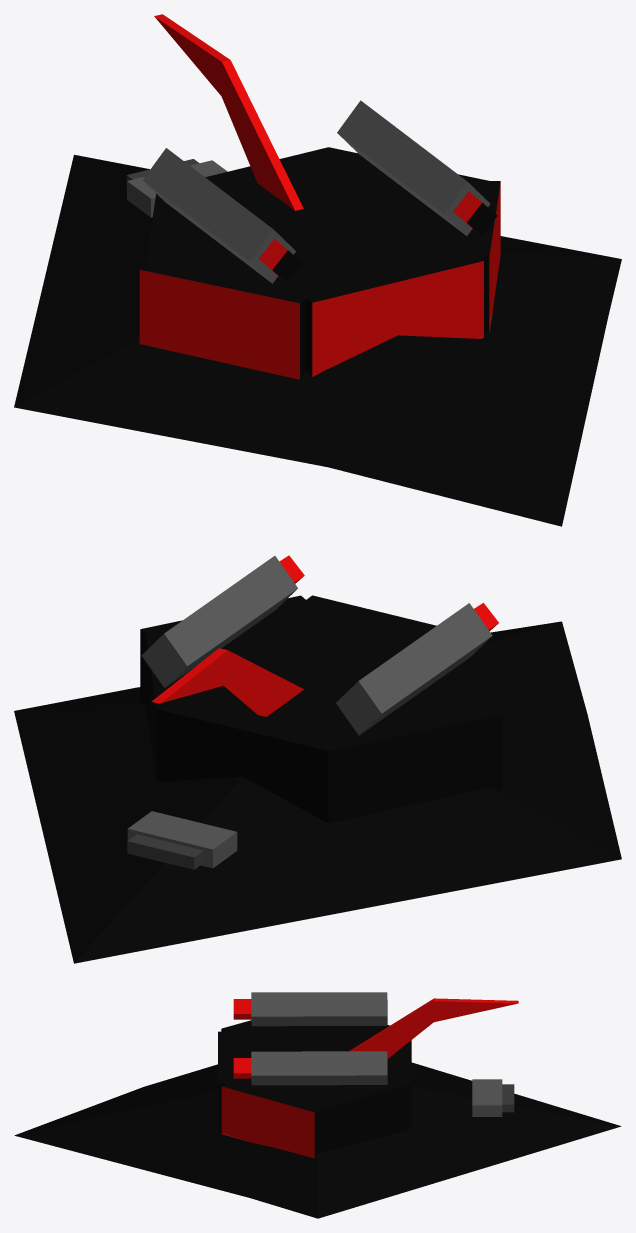
File: FBX Finished Enemy Lazarous Ship.fbx
3 views of the same model, one above another, from view 1: azimuth 30°, elevation 25°; view 2: azimuth 150°, elevation 25°; view 3: azimuth 270°, elevation 25° (orthographic). The views are drawn at different scales.
Parts seen in each view (by area): view 1: pPyramid1, pCylinder1, pCylinder3, pasted__pCylinder3, pCube4, pCube2; view 2: pPyramid1, pCylinder1, pCylinder3, pasted__pCylinder3, pCube4, pCube2, pasted__pCube2; view 3: pPyramid1, pCylinder1, pasted__pCylinder3, pCylinder3, pCube4, pCube2, pasted__pCube2.
Boxes of the visible parts, left/top/right/bottom form: pPyramid1: left=14, top=154, right=621, bottom=526; pCylinder1: left=139, top=147, right=500, bottom=379; pCylinder3: left=143, top=148, right=302, bottom=283; pasted__pCylinder3: left=337, top=100, right=497, bottom=235; pCube4: left=154, top=14, right=303, bottom=210; pCube2: left=127, top=160, right=227, bottom=217; pPyramid1: left=14, top=621, right=621, bottom=963; pCylinder1: left=140, top=595, right=502, bottom=823; pCylinder3: left=336, top=603, right=498, bottom=735; pasted__pCylinder3: left=141, top=555, right=304, bottom=688; pCube4: left=151, top=648, right=303, bottom=716; pCube2: left=127, top=811, right=237, bottom=868; pasted__pCube2: left=127, top=834, right=203, bottom=869; pPyramid1: left=14, top=1062, right=621, bottom=1218; pCylinder1: left=218, top=1020, right=411, bottom=1158; pasted__pCylinder3: left=233, top=1051, right=387, bottom=1085; pCylinder3: left=233, top=992, right=387, bottom=1026; pCube4: left=349, top=998, right=518, bottom=1058; pCube2: left=472, top=1079, right=502, bottom=1116; pasted__pCube2: left=502, top=1084, right=514, bottom=1112.
Size of the model in its own units: 14.52 by 4.99 by 20.19.
